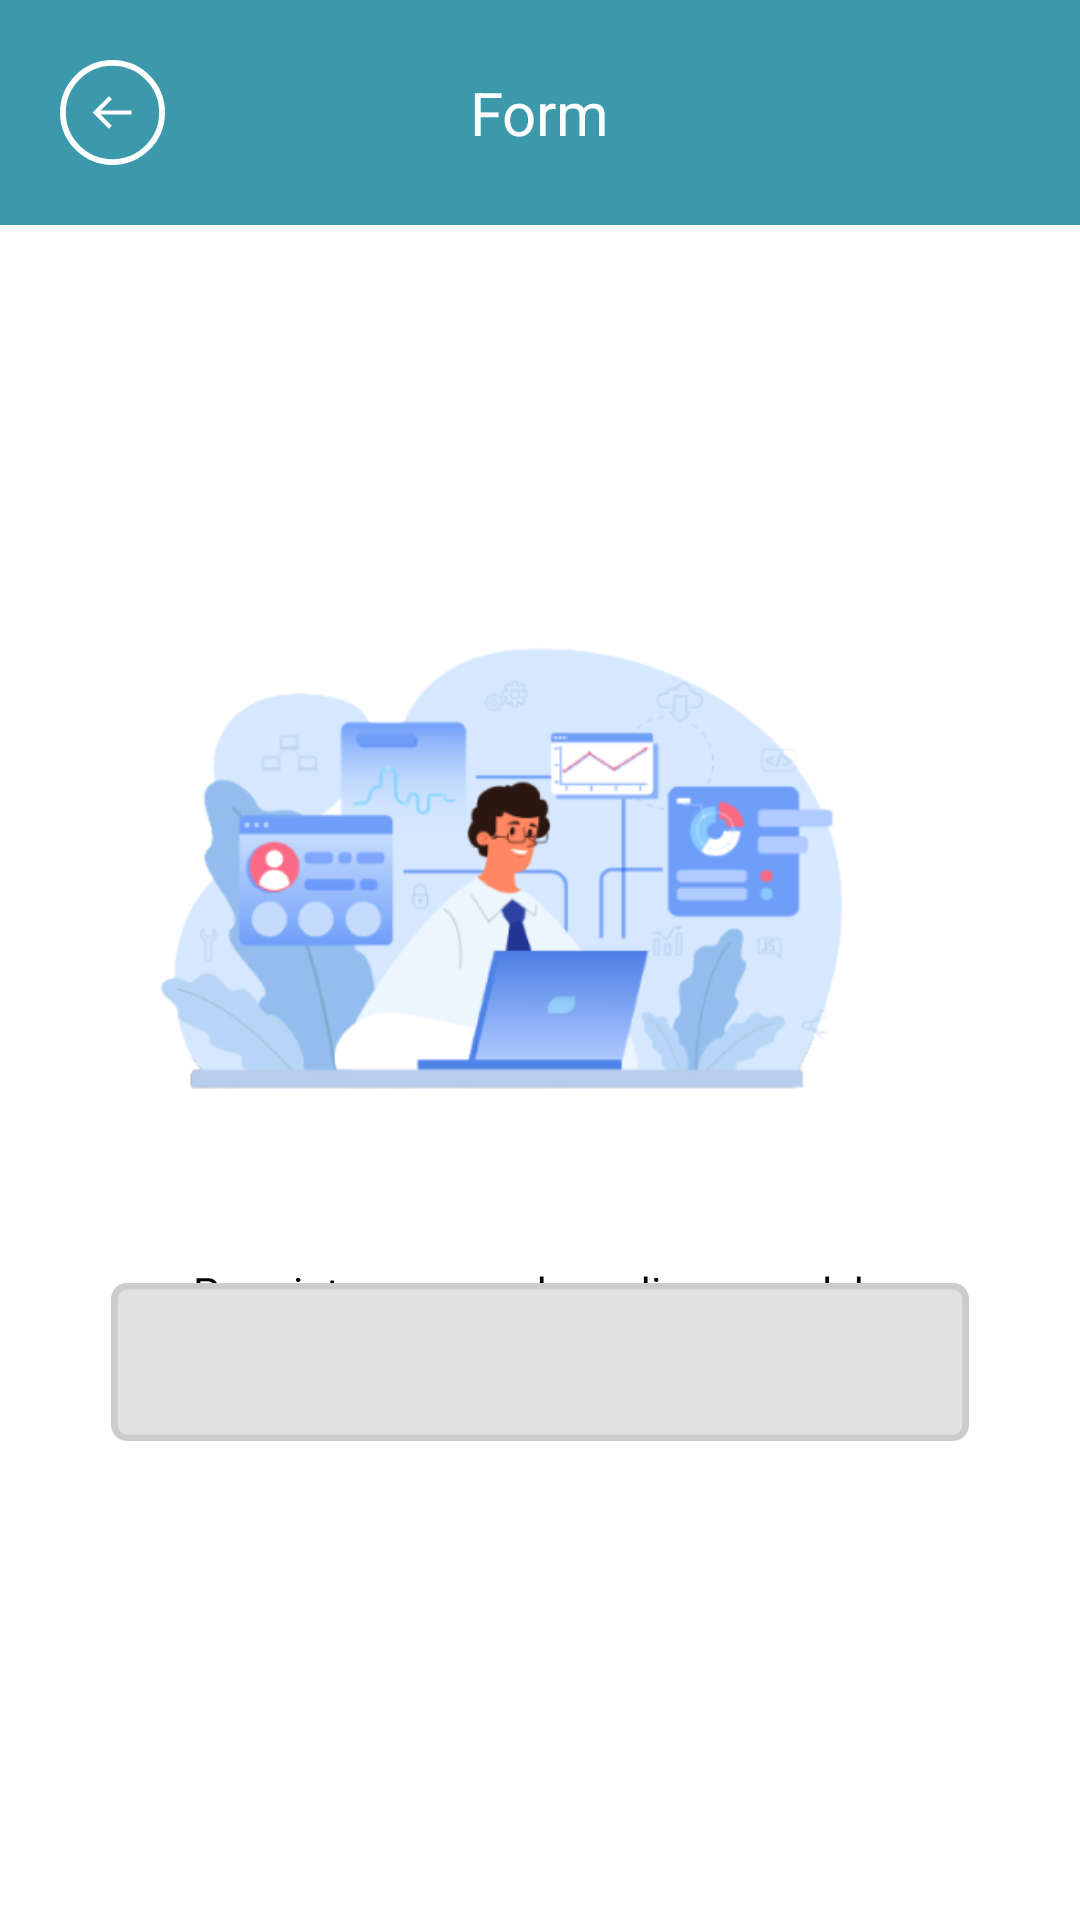

Icon bounding boxes for this 1080*1920 phone screenshot, format (x1, y1, x2, y2):
back: (60, 60, 165, 165)
